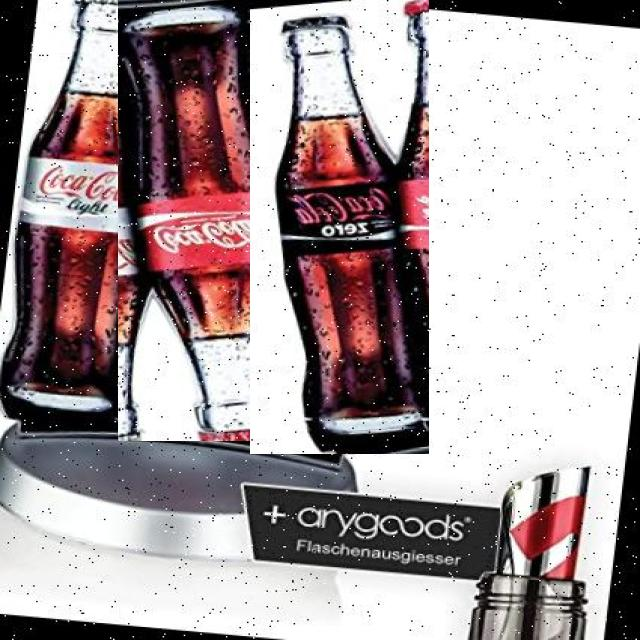coca-cola: (118, 0, 307, 441), (250, 0, 429, 454), (0, 0, 185, 435)
